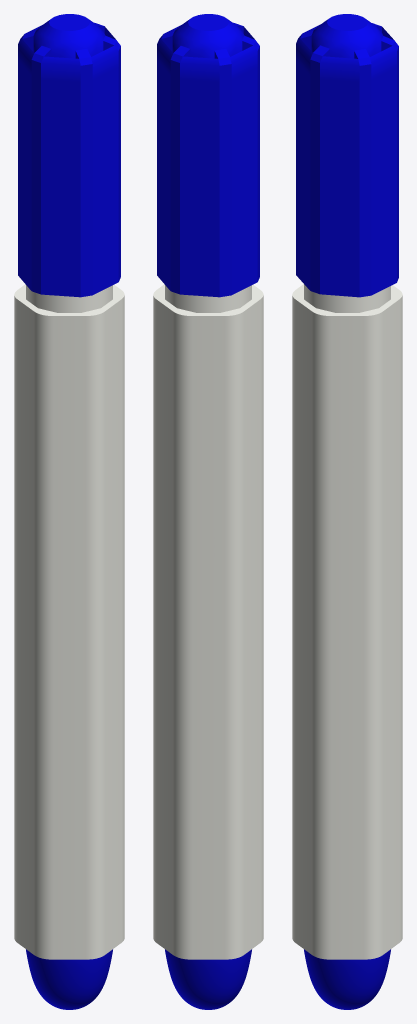
The model's file is markerClosed.fbx.
The picture shows the model from 3 angles, left to right: view 1: azimuth 30°, elevation 25°; view 2: azimuth 210°, elevation 25°; view 3: azimuth 330°, elevation 25°; orthographic projection.
Visible parts, largest first — view 1: marker, markerCap; view 2: marker, markerCap; view 3: marker, markerCap.
Part boxes in pixels (bbox=[...]): marker: bbox=[14, 284, 124, 1009]; markerCap: bbox=[18, 14, 120, 297]; marker: bbox=[153, 284, 263, 1009]; markerCap: bbox=[157, 14, 259, 297]; marker: bbox=[292, 284, 402, 1009]; markerCap: bbox=[296, 14, 398, 297].
Size of the model in its own units: 3.47 by 37.13 by 3.78.
